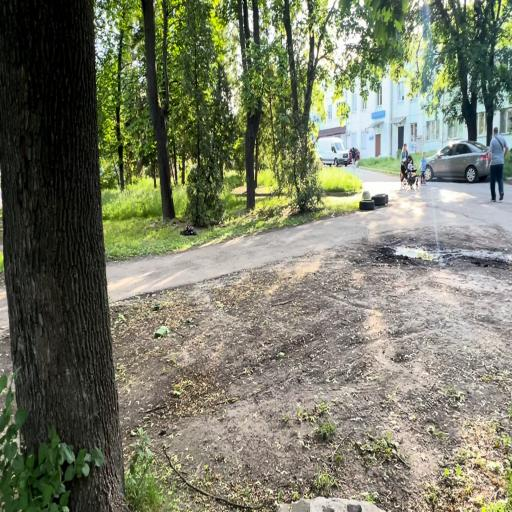drone: (180, 224, 198, 236)
